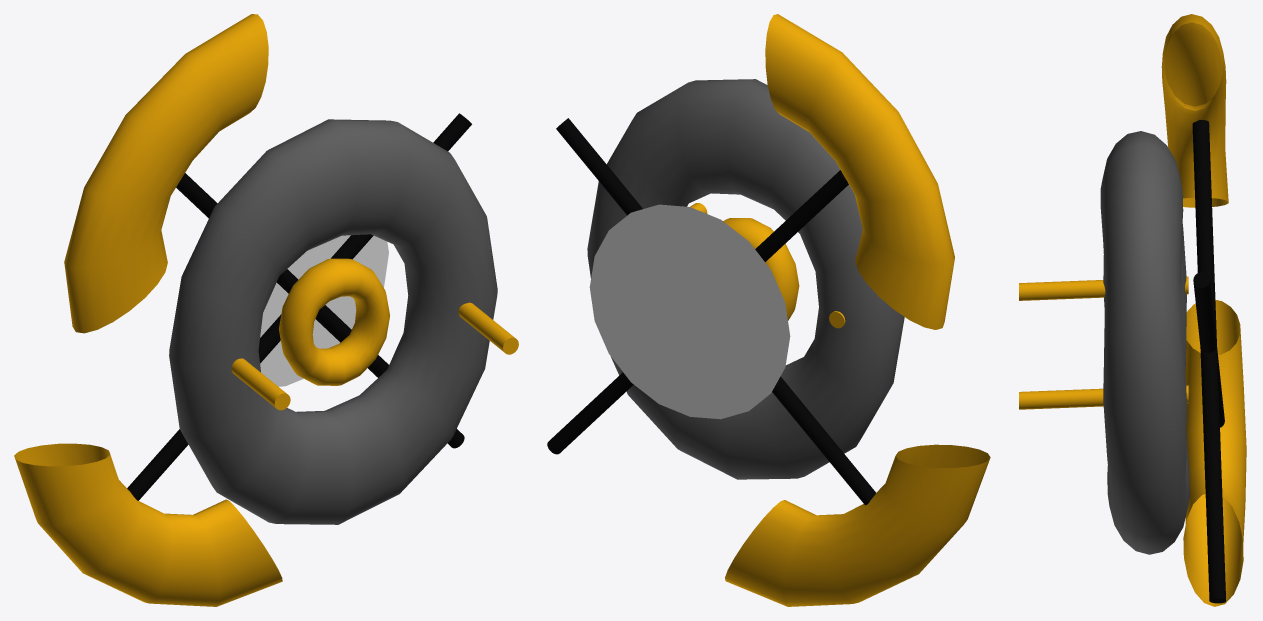
Rendered from kaiten.fbx.
3 renders of one model, left to right at view 1: azimuth 30°, elevation 25°; view 2: azimuth 150°, elevation 25°; view 3: azimuth 270°, elevation 25°, orthographic. The views are drawn at different scales.
Visible parts, largest first — view 1: pTorus2, pTorus3, pTorus4, pTorus1, pCylinder3, pCylinder2, pCylinder1, polySurface1, polySurface3; view 2: pTorus2, pCylinder3, pTorus3, pTorus4, pCylinder2, pCylinder1, pTorus1; view 3: pTorus2, pTorus4, pTorus3, pCylinder1, polySurface3, pCylinder2, polySurface1.
Boxes of the visible parts, box(x1,y1,x2,y2) form: pTorus2: box(169, 119, 497, 524); pTorus3: box(64, 14, 268, 333); pTorus4: box(14, 443, 282, 606); pTorus1: box(279, 258, 389, 385); pCylinder3: box(260, 235, 388, 386); pCylinder2: box(127, 113, 471, 500); pCylinder1: box(176, 173, 464, 448); polySurface1: box(458, 302, 518, 354); polySurface3: box(231, 358, 290, 410); pTorus2: box(587, 79, 904, 479); pCylinder3: box(589, 204, 790, 419); pTorus3: box(765, 14, 954, 329); pTorus4: box(725, 444, 990, 606); pCylinder2: box(556, 118, 875, 505); pCylinder1: box(547, 170, 848, 454); pTorus1: box(723, 218, 799, 320); pTorus2: box(1100, 131, 1189, 554); pTorus4: box(1183, 299, 1246, 606); pTorus3: box(1161, 14, 1228, 207); pCylinder1: box(1192, 120, 1226, 603); polySurface3: box(1019, 276, 1188, 300); pCylinder2: box(1193, 272, 1224, 427); polySurface1: box(1019, 385, 1188, 409).
Size of the model in its own units: 19.91 by 25.04 by 9.01.
